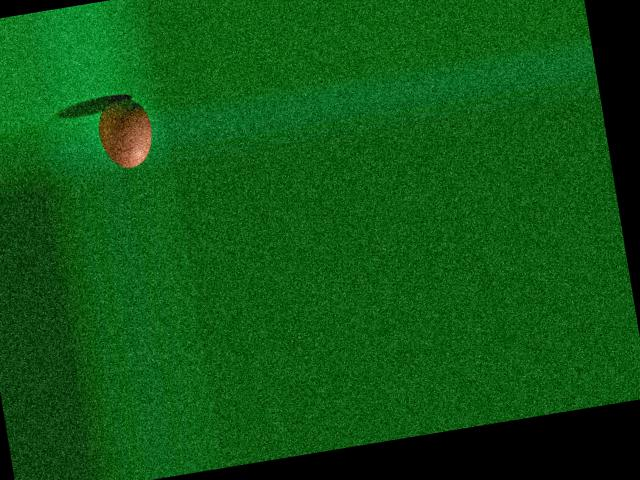egg: (93, 94, 156, 171)
